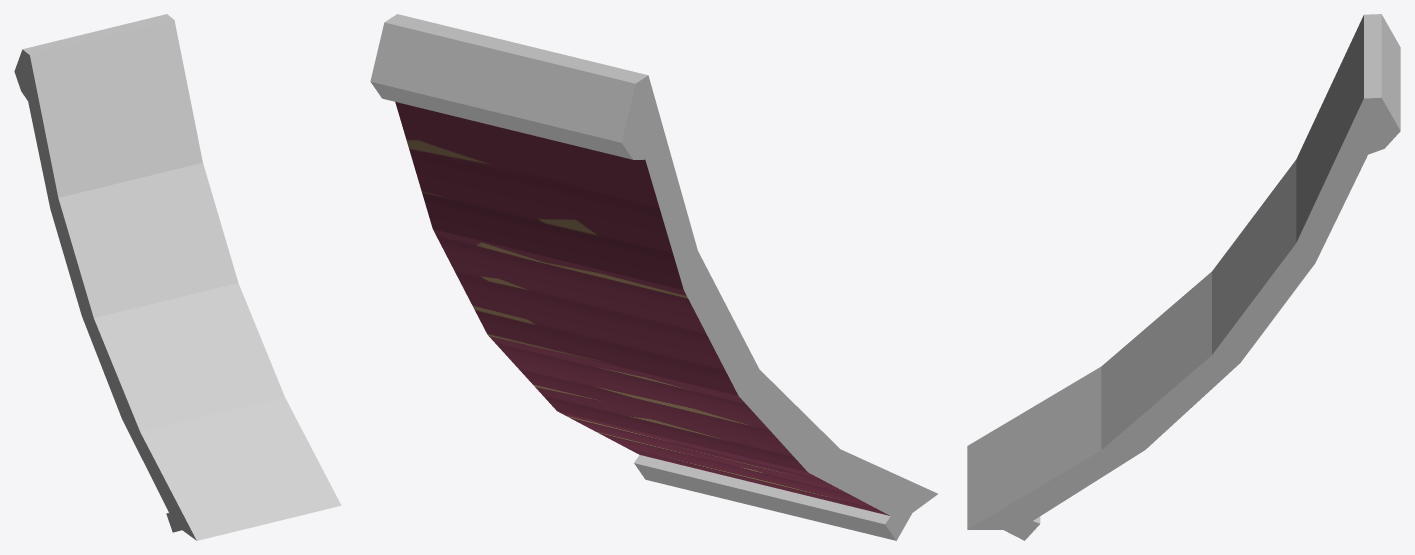
File: SM_Bld_Roof_Concave_Half_01.fbx
3 views of the same model, side by side, from view 1: azimuth 30°, elevation 25°; view 2: azimuth 150°, elevation 25°; view 3: azimuth 270°, elevation 25° (orthographic). The views are drawn at different scales.
Visible parts, largest first — view 1: SM_Bld_Roof_Concave_Half_01; view 2: SM_Bld_Roof_Concave_Half_01; view 3: SM_Bld_Roof_Concave_Half_01.
Part boxes in pixels (x1,y1,x2,y2): SM_Bld_Roof_Concave_Half_01: [14, 14, 341, 540]; SM_Bld_Roof_Concave_Half_01: [370, 14, 937, 540]; SM_Bld_Roof_Concave_Half_01: [967, 14, 1400, 540].
Bounding box in the file's own units: 125 × 308 × 273.
